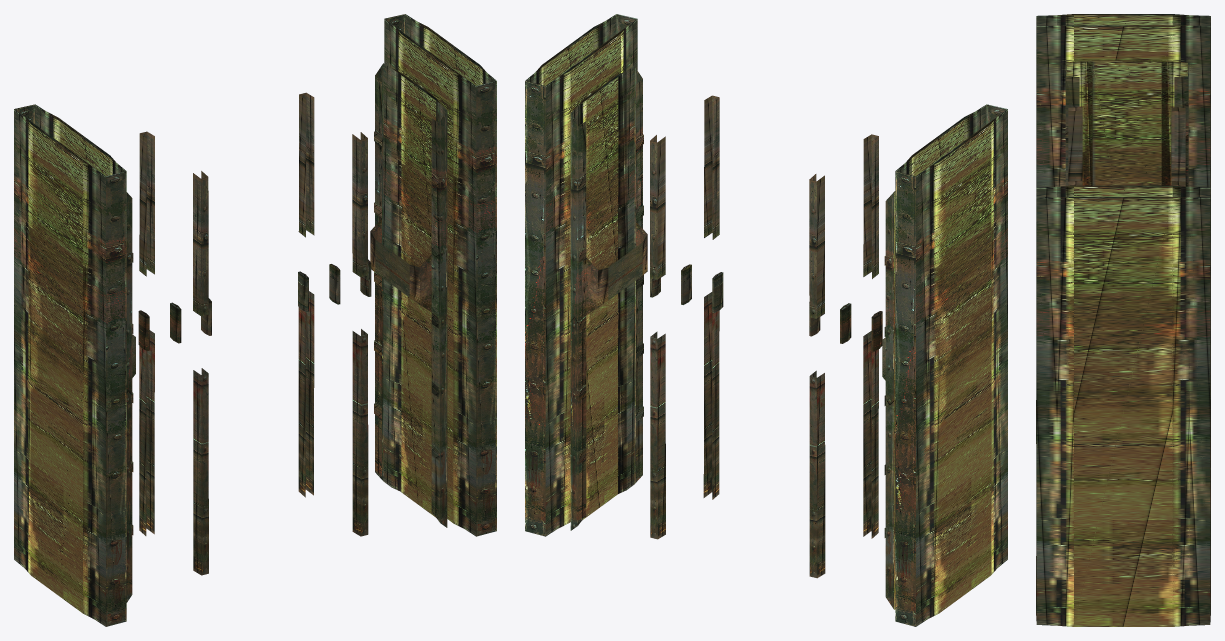
File: com-airlock-inner-lod0.glb
3 renders of one model, left to right at view 1: azimuth 30°, elevation 25°; view 2: azimuth 150°, elevation 25°; view 3: azimuth 270°, elevation 25°, orthographic. The views are drawn at different scales.
Visible parts, largest first — view 1: mesh0; view 2: mesh0; view 3: mesh0.
Part boxes in pixels (x1=…): mesh0: x1=14, y1=14, x2=496, y2=626; mesh0: x1=525, y1=14, x2=1007, y2=626; mesh0: x1=1036, y1=14, x2=1210, y2=626.
Size of the model in its own units: 11.86 by 12.88 by 4.75.
1 material, 1 textured.
